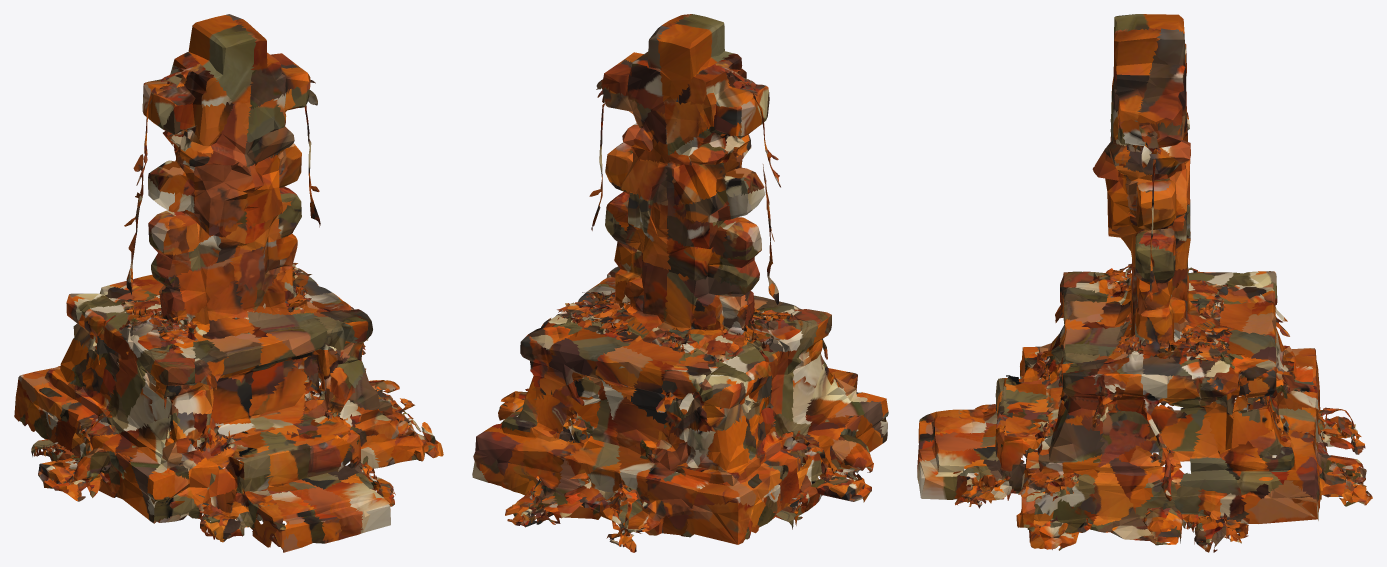
File: Totem 1.fbx
3 views of the same model, side by side, from view 1: azimuth 30°, elevation 25°; view 2: azimuth 150°, elevation 25°; view 3: azimuth 270°, elevation 25° (orthographic). The views are drawn at different scales.
Visible parts, largest first — view 1: temp; view 2: temp; view 3: temp.
Part boxes in pixels (<box>): temp: <box>14,14,443,552</box>; temp: <box>472,14,888,552</box>; temp: <box>917,14,1372,552</box>.
Bounding box in the file's own units: 171 × 200 × 183.
